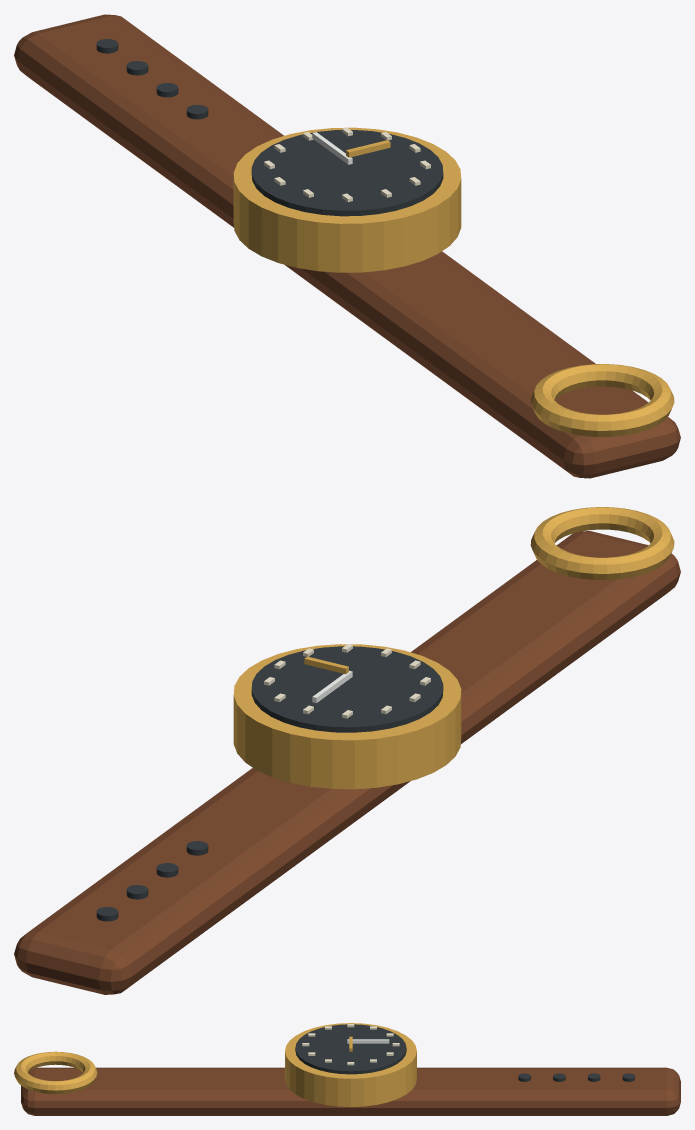
The model's file is Reloj.fbx.
3 renders of one model, top to bottom at view 1: azimuth 30°, elevation 25°; view 2: azimuth 150°, elevation 25°; view 3: azimuth 270°, elevation 25°, orthographic. The views are drawn at different scales.
Parts seen in each view (by area): view 1: Correa, Caja, Esfera, Hebilla; view 2: Correa, Caja, Esfera, Hebilla; view 3: Correa, Caja, Esfera, Hebilla, Aguja_minutos.
Boxes of the visible parts, x1,y1,x2,y2 form: Correa: (14,14,680,478); Caja: (233,127,461,272); Esfera: (251,130,443,216); Hebilla: (530,364,674,437); Correa: (14,531,680,994); Caja: (233,644,461,789); Esfera: (251,646,443,732); Hebilla: (530,507,674,580); Correa: (21,1067,680,1115); Caja: (285,1023,416,1106); Esfera: (295,1024,406,1074); Hebilla: (14,1051,97,1093); Aguja_minutos: (347,1039,389,1043).
Bounding box in the file's own units: 3.8 × 2.15 × 19.2.
